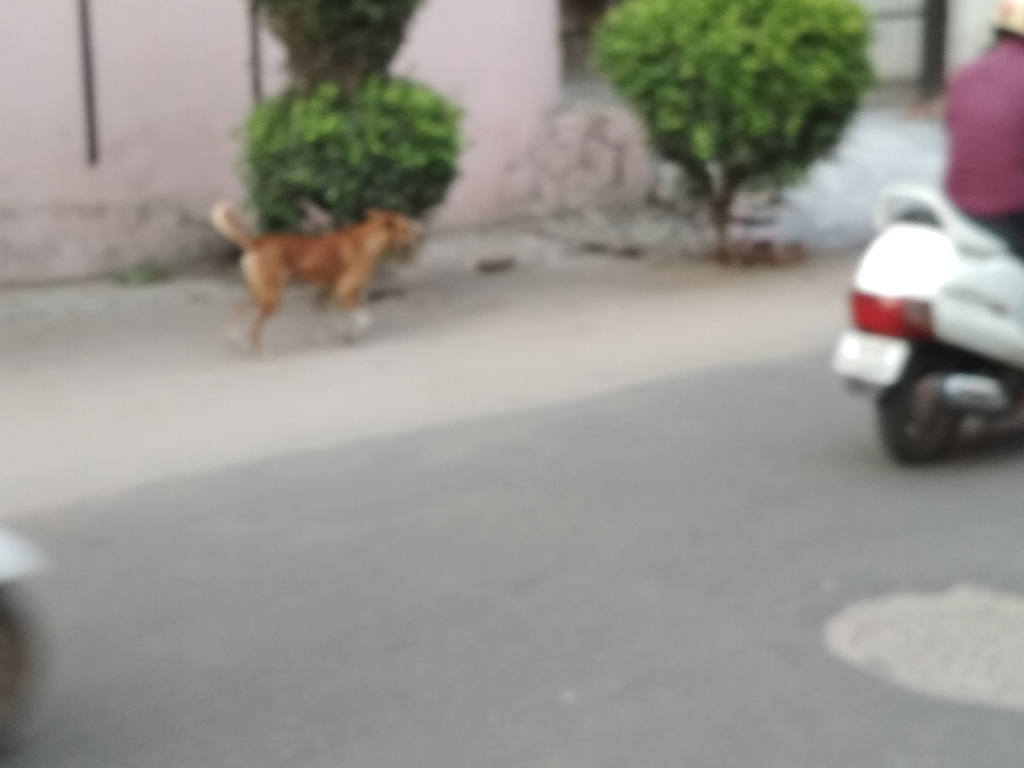dog: (209, 201, 424, 354)
